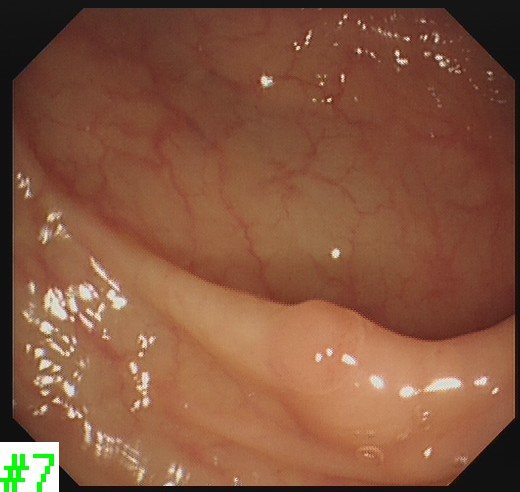adenoma: (263, 296, 369, 398)
